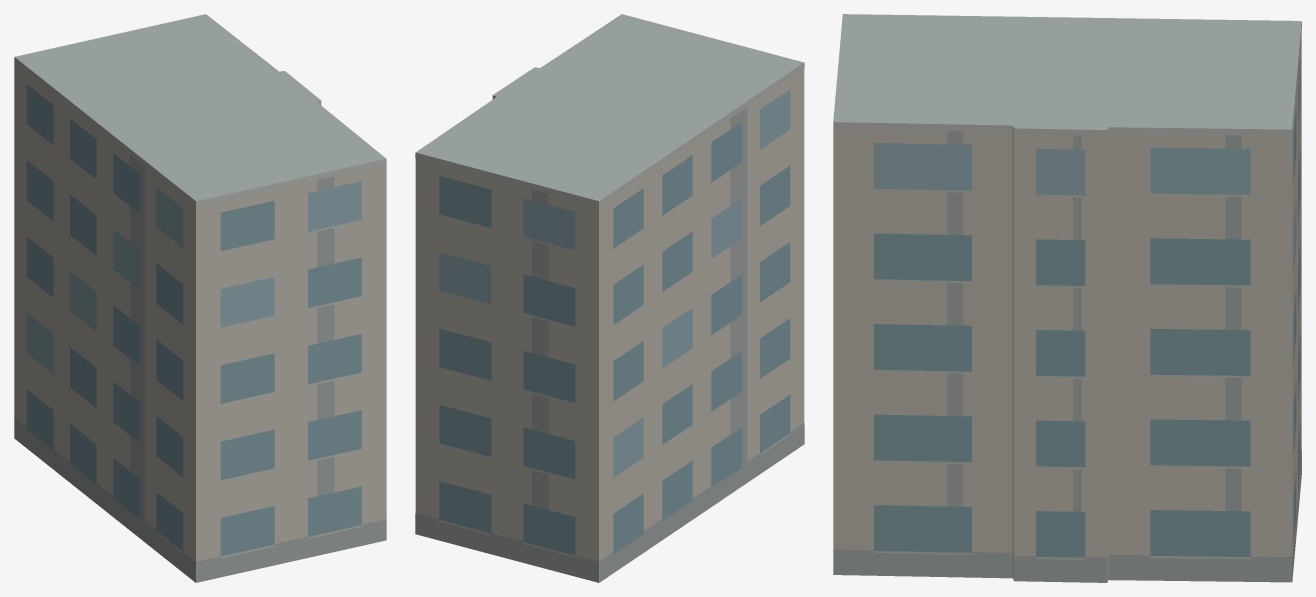
File: survey-upis-33032110.glb
3 views of the same model, side by side, from view 1: azimuth 30°, elevation 25°; view 2: azimuth 150°, elevation 25°; view 3: azimuth 270°, elevation 25° (orthographic). The views are drawn at different scales.
Visible parts, largest first — view 1: survey-upis-33032110.tmp; view 2: survey-upis-33032110.tmp; view 3: survey-upis-33032110.tmp.
Part boxes in pixels (x1=…): survey-upis-33032110.tmp: x1=14, y1=14, x2=386, y2=582; survey-upis-33032110.tmp: x1=415, y1=14, x2=804, y2=582; survey-upis-33032110.tmp: x1=833, y1=14, x2=1301, y2=582.
Bounding box in the file's own units: 8.83 × 16.05 × 15.06.
